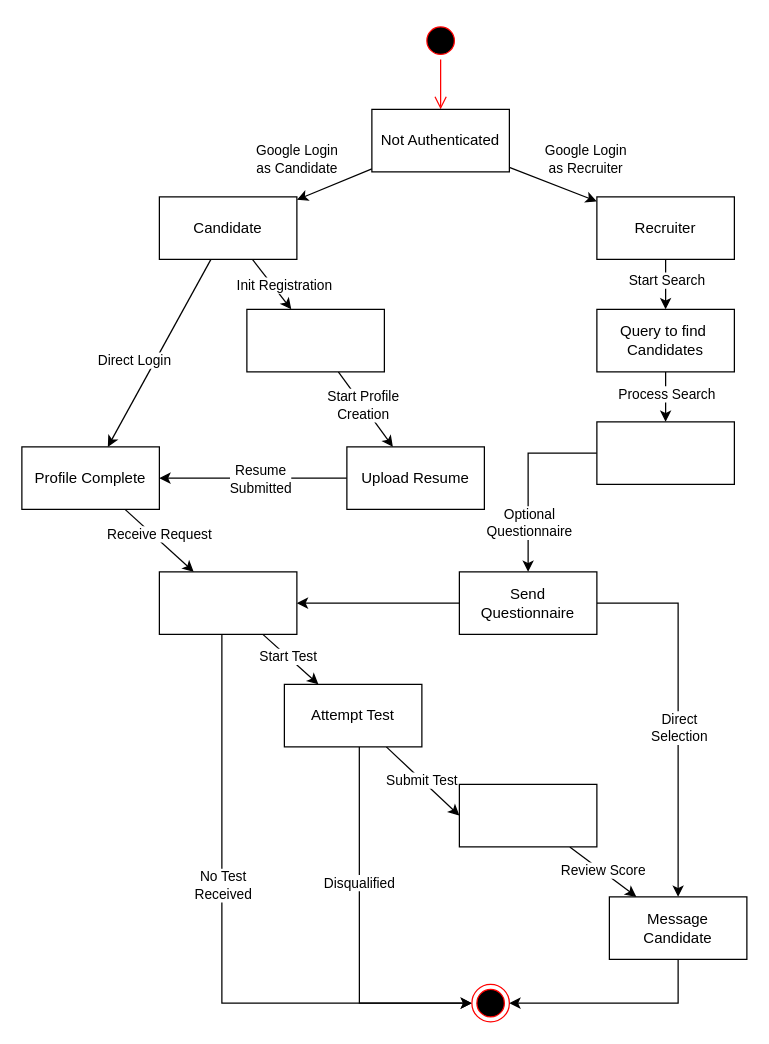
This 769x1044 diagram has some shape labels left out. The shapes that lost their labels are listed below. From the top down, each one's centre as x and y in pixels, then its label:
At point 315,340: "Profile Incomplete".
At point 665,452: "Get Eligible Candidates".
At point 227,602: "Questionnaire Received".
At point 527,815: "Receive Score".
